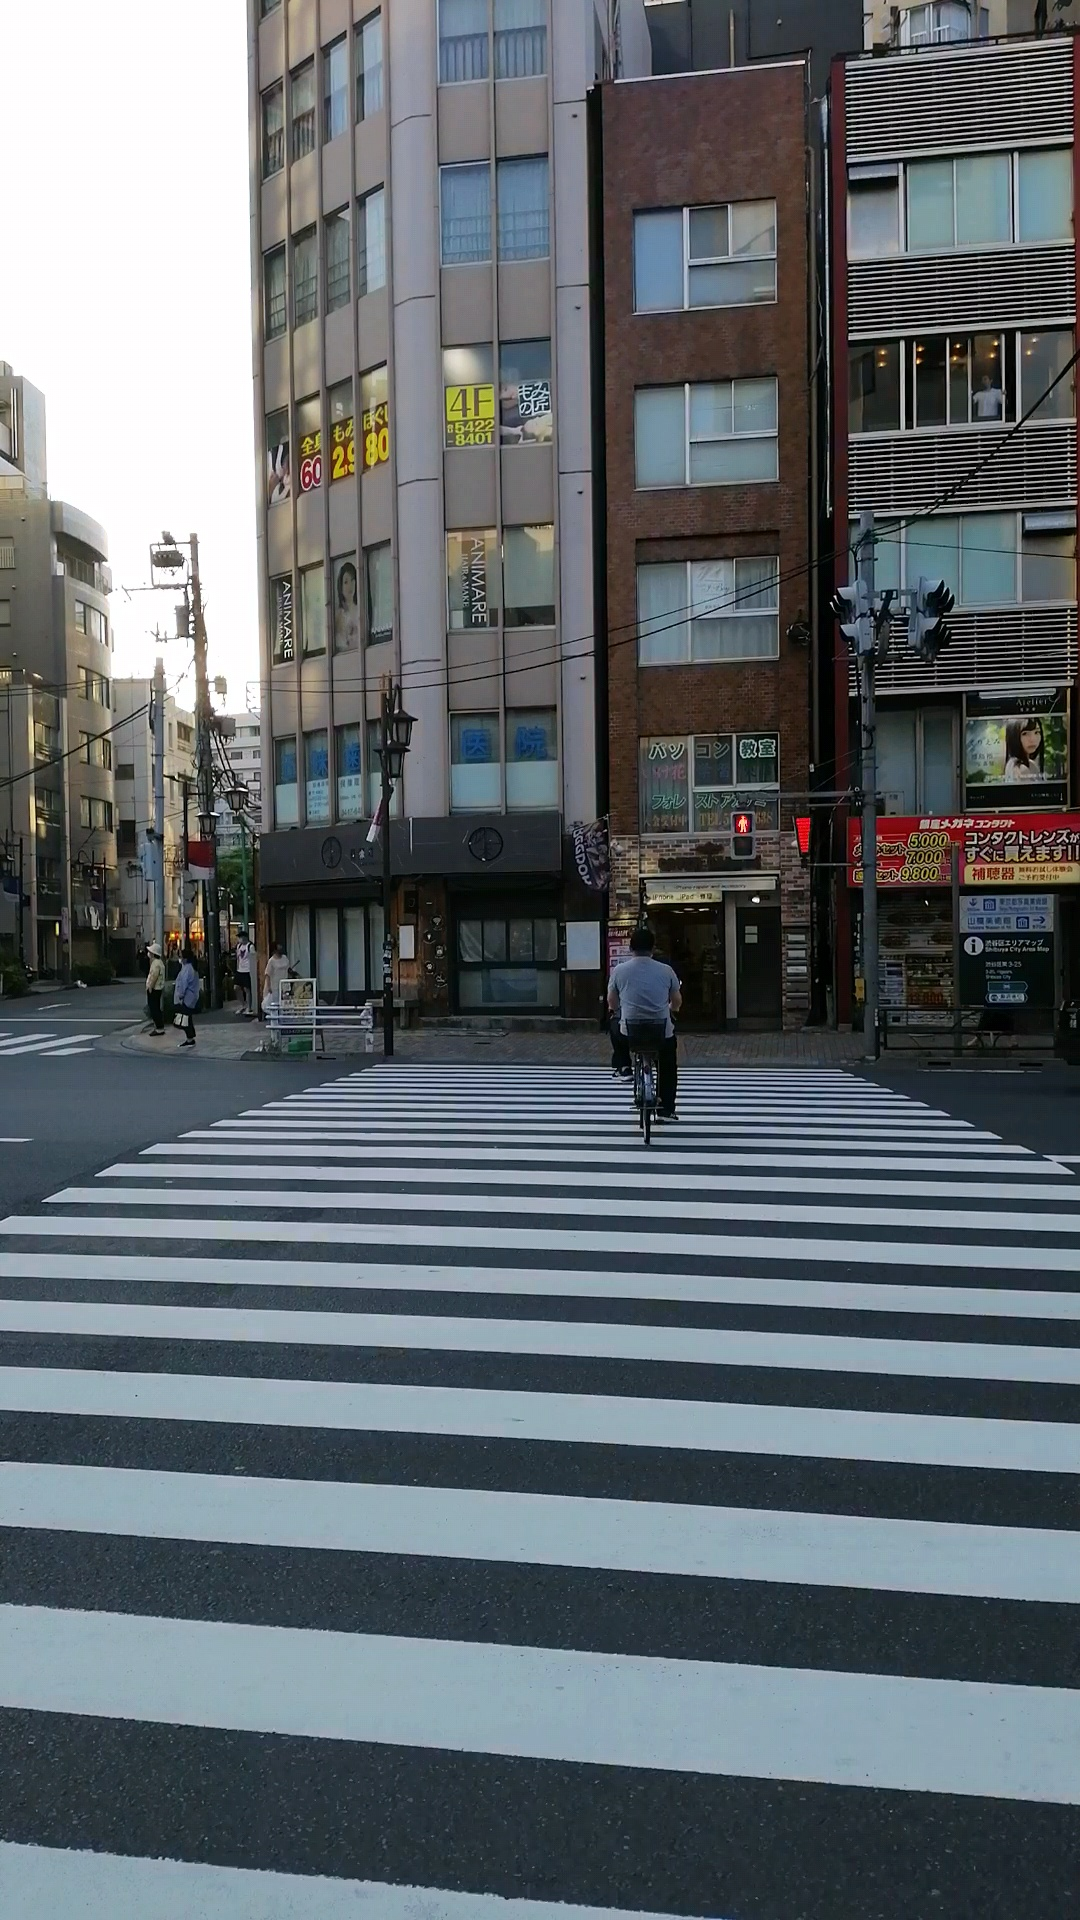red: (729, 811, 757, 858)
